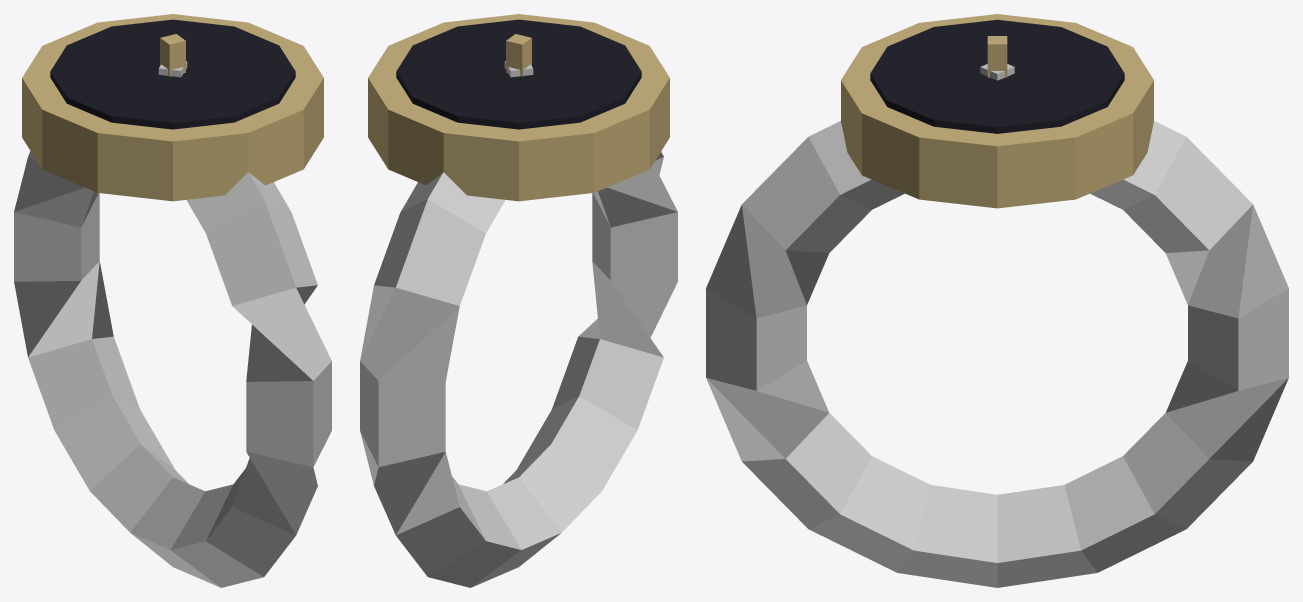
The model's file is acc_bracelet_watch_v01.glb.
The picture shows the model from 3 angles, left to right: view 1: azimuth 30°, elevation 25°; view 2: azimuth 150°, elevation 25°; view 3: azimuth 270°, elevation 25°; orthographic projection. The views are drawn at different scales.
Visible parts, largest first — view 1: acc_bracelet_watch; view 2: acc_bracelet_watch; view 3: acc_bracelet_watch.
Part boxes in pixels (bbox=[...]): acc_bracelet_watch: bbox=[14, 14, 331, 587]; acc_bracelet_watch: bbox=[360, 14, 677, 587]; acc_bracelet_watch: bbox=[706, 14, 1288, 587].
Size of the model in its own units: 0.064 by 0.1235 by 0.1191.
